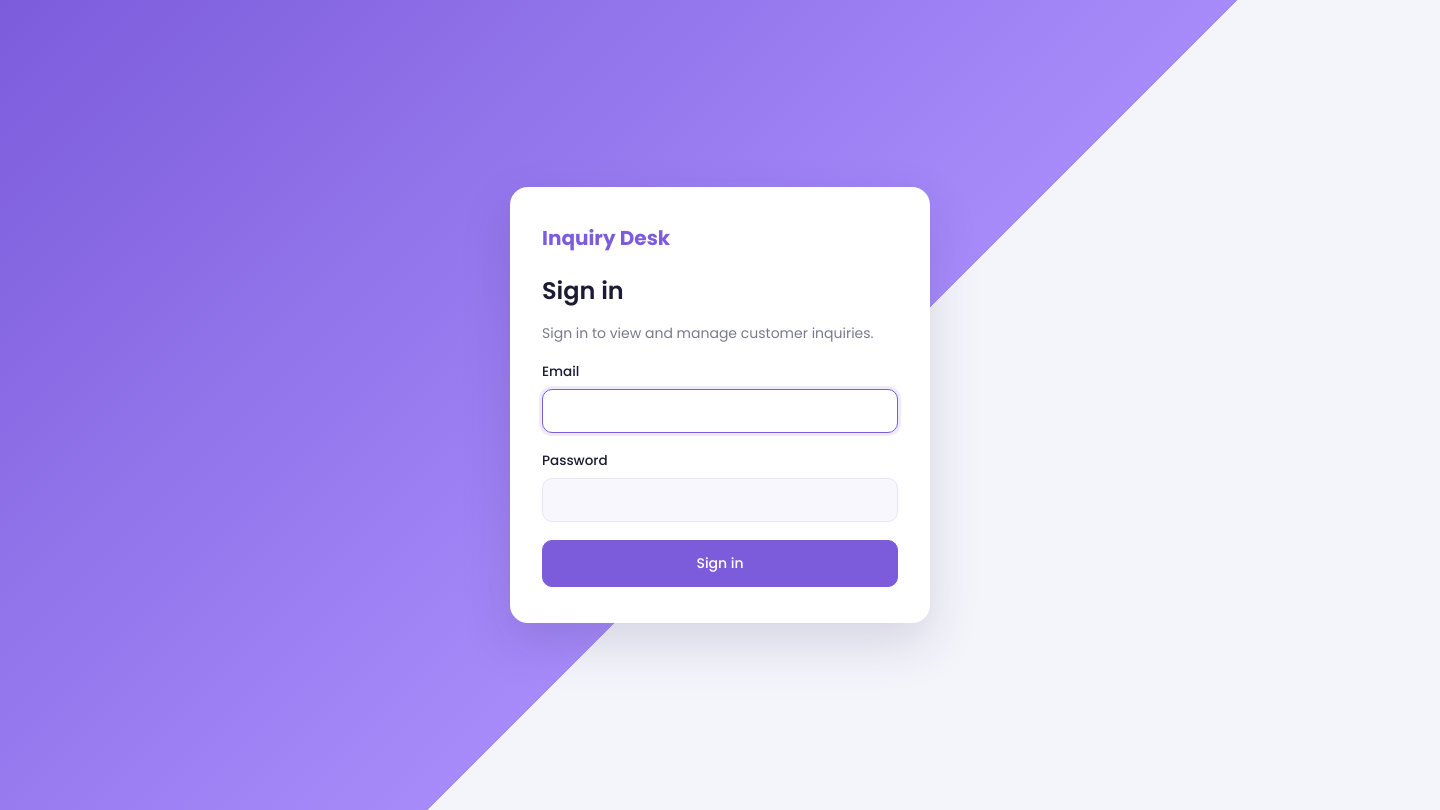
Test: LoginPage › shows the server message on wrong credentials and lets the user retry
Type "alice@example.com" into the field labelled "Email".
click(720, 411); type("alice@example.com")  # box [542, 389, 898, 433]
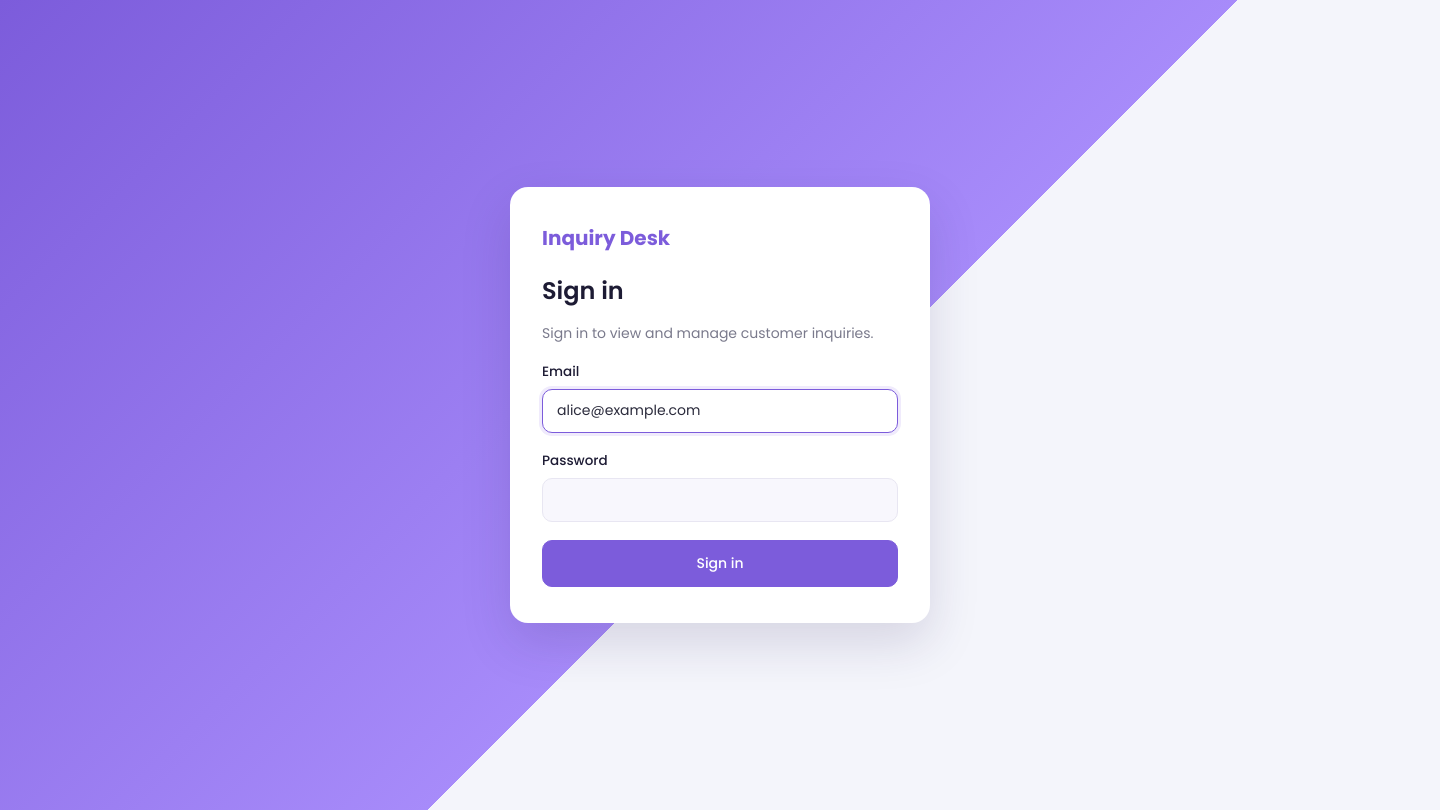
Type "wrong" into the password field labelled "Password".
click(720, 500); type("wrong")  # box [542, 478, 898, 522]
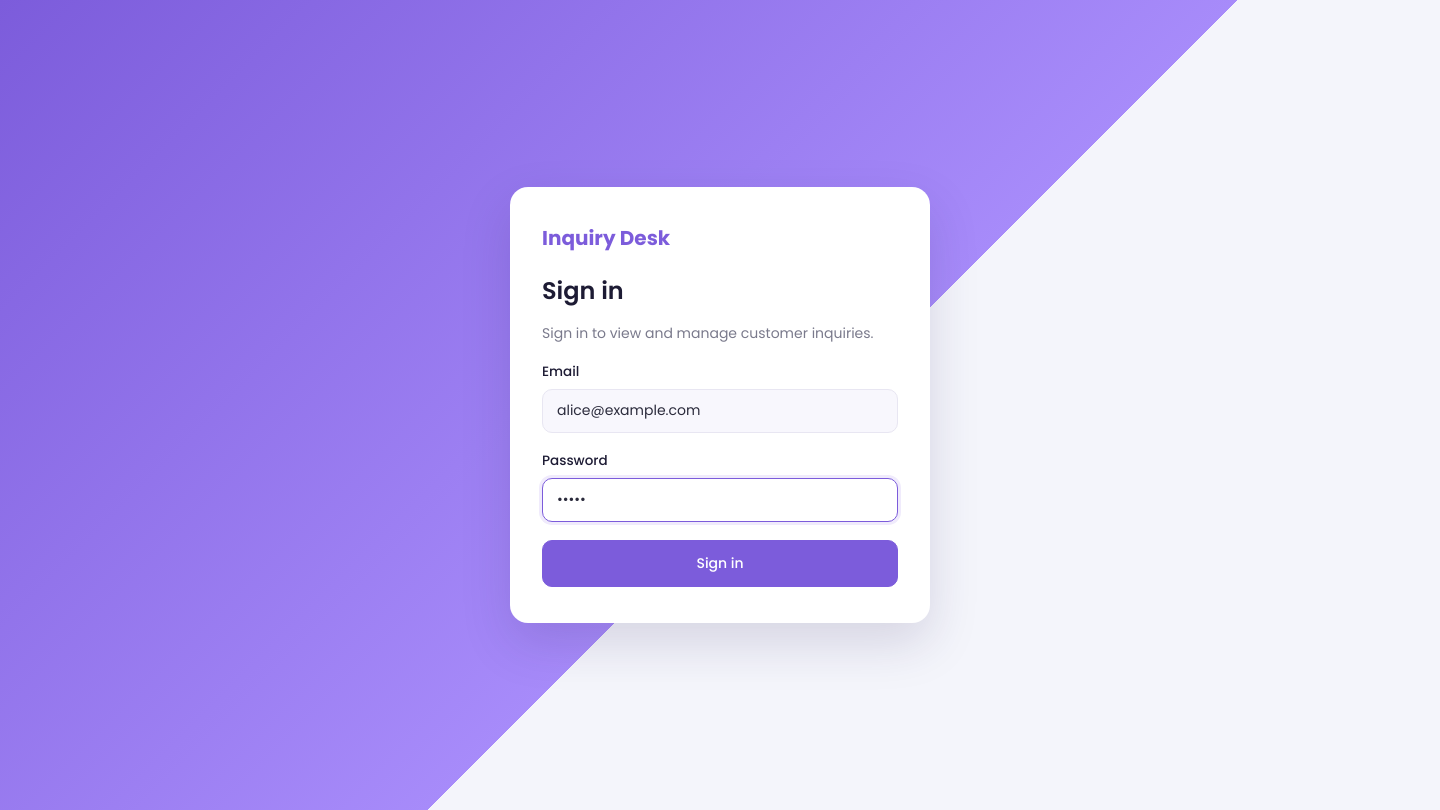
Click the button "Sign in".
click(720, 564)  # box [542, 540, 898, 587]
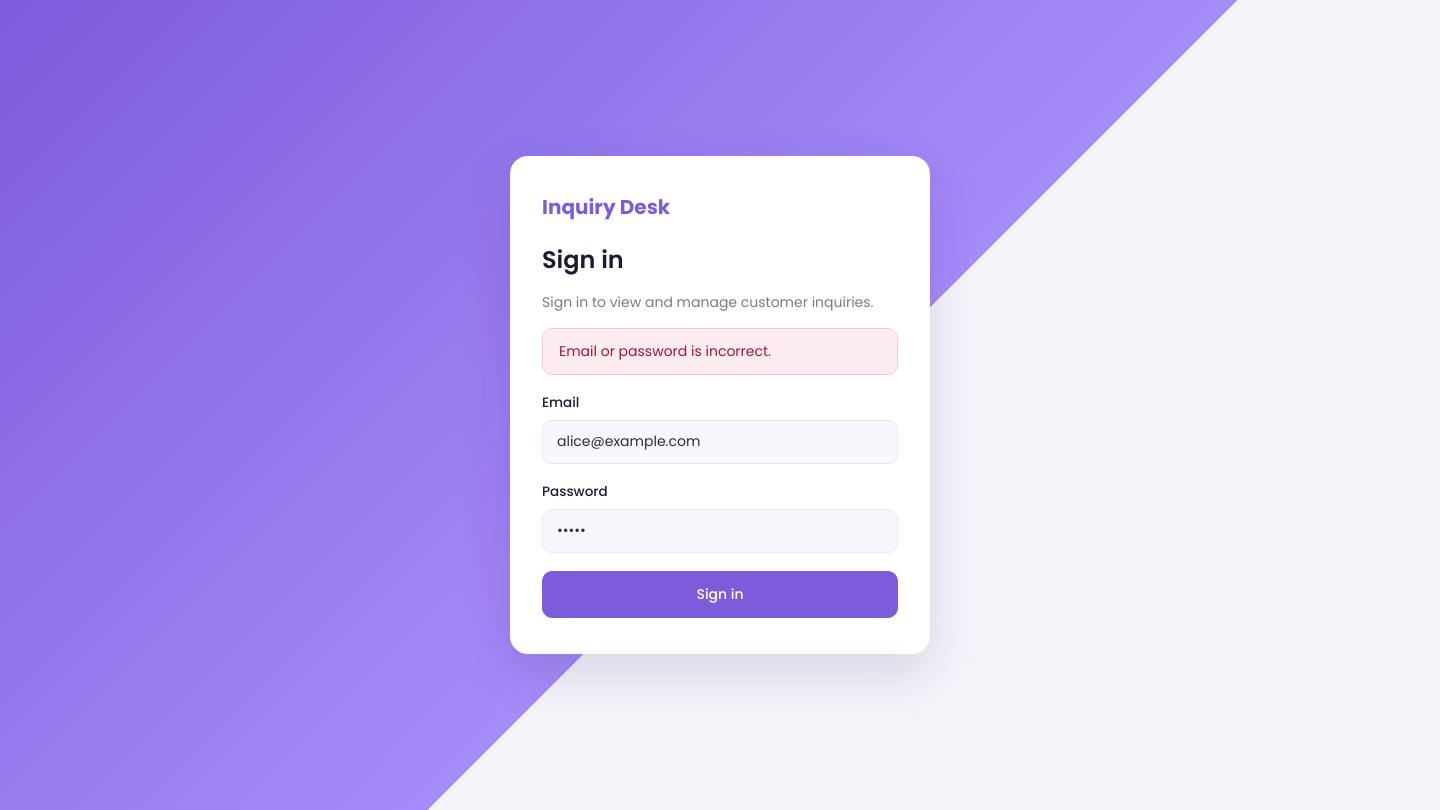
expect the button "Sign in" is enabled: met, box [542, 570, 898, 618]
expect the message reads "Email or password is incorrect.": met, box [559, 341, 771, 361]
